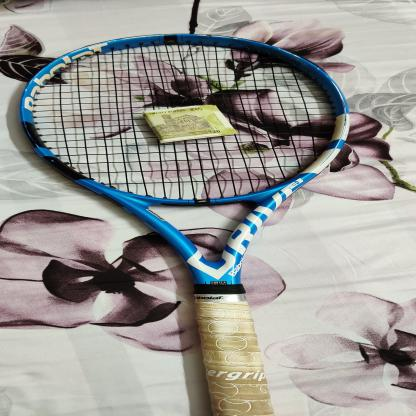New20Back: (140, 105, 239, 143)
